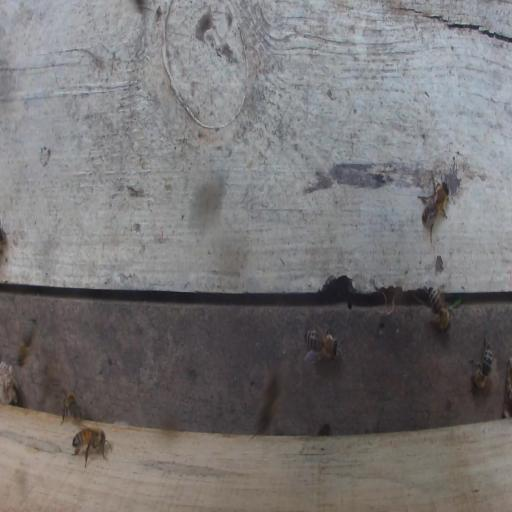nonpollenbee: (418, 175, 451, 237), (71, 426, 110, 468), (427, 286, 460, 333), (304, 320, 340, 360), (468, 335, 492, 391), (16, 319, 36, 367), (61, 390, 82, 423)
